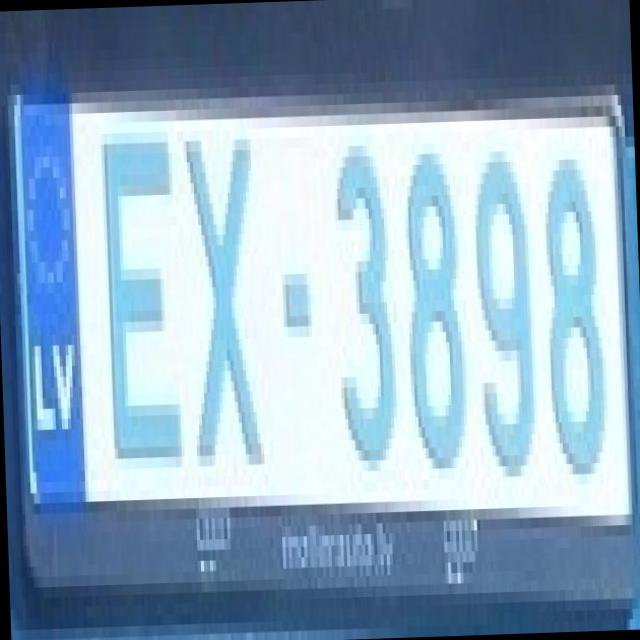3: (316, 124, 401, 462)
8: (527, 117, 609, 476), (389, 132, 472, 469)
9: (460, 129, 542, 477)
E: (81, 110, 182, 470)
X: (164, 107, 274, 467)
